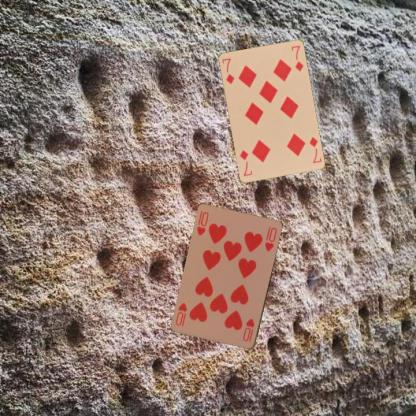10h: (240, 315, 256, 344), (194, 209, 210, 238)
7d: (219, 55, 236, 85), (307, 134, 322, 164)
